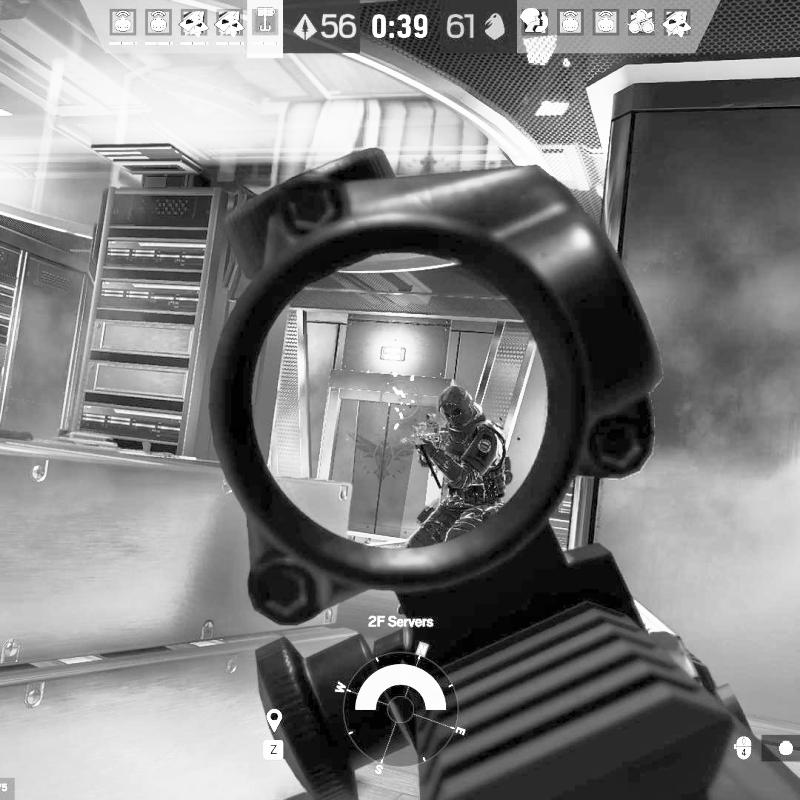Character: (401, 384, 514, 551)
Head: (437, 384, 476, 431)
